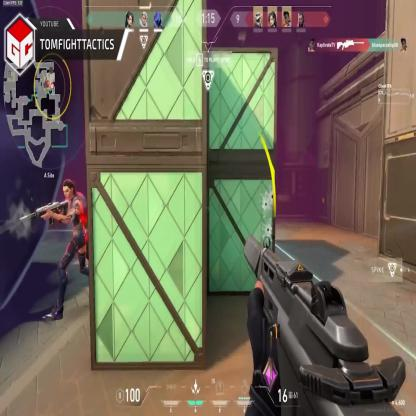enemy: (46, 180, 98, 322)
enemy_head: (62, 179, 75, 200)
